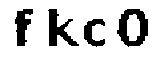0: (116, 3, 153, 51)
c: (82, 17, 110, 49)
f: (10, 6, 34, 52)
k: (42, 5, 81, 51)
